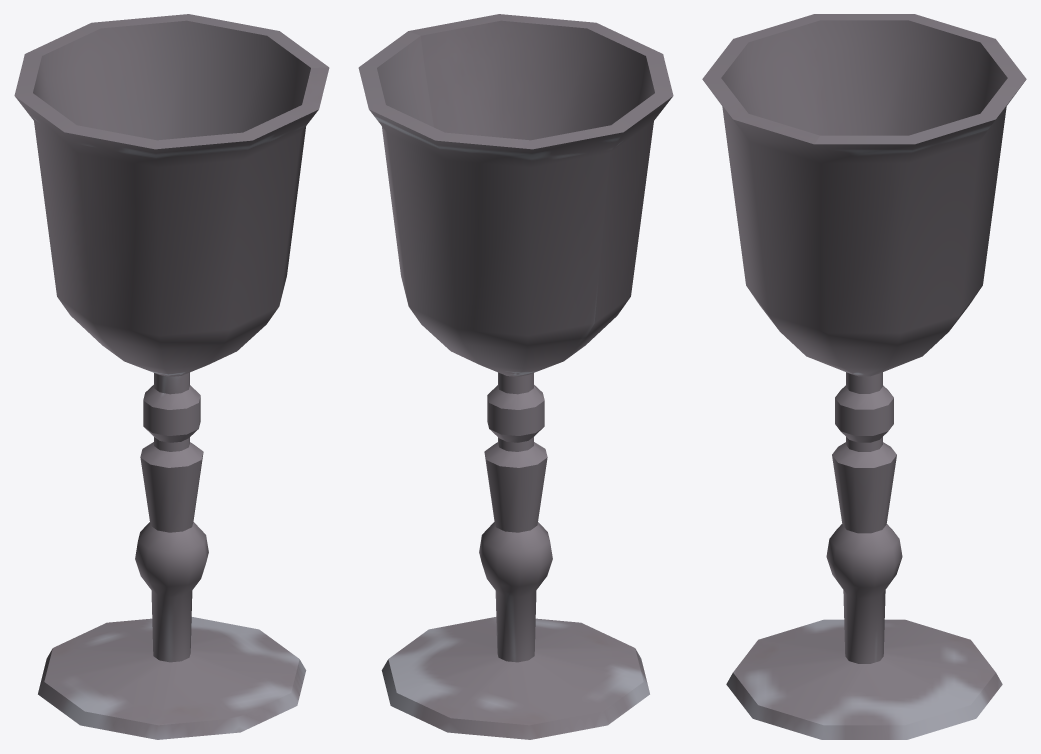
Rendered from chalice.glb.
3 views of the same model, side by side, from view 1: azimuth 30°, elevation 25°; view 2: azimuth 150°, elevation 25°; view 3: azimuth 270°, elevation 25° (orthographic).
Visible parts, largest first — view 1: Chalice; view 2: Chalice; view 3: Chalice.
Boxes of the visible parts, box(x1,y1,x2,y2) form: Chalice: box(14, 14, 329, 739); Chalice: box(358, 14, 673, 739); Chalice: box(702, 14, 1026, 739).
Size of the model in its own units: 0.1184 by 0.2567 by 0.1245.
1 material, 1 textured.
